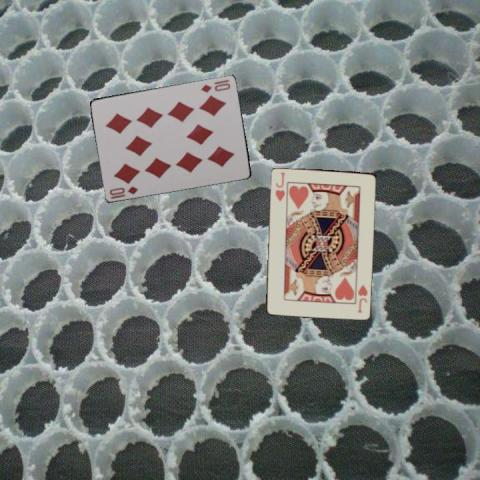10d: (107, 183, 139, 200), (198, 80, 232, 94)
Jh: (272, 169, 286, 202), (355, 281, 368, 314)
